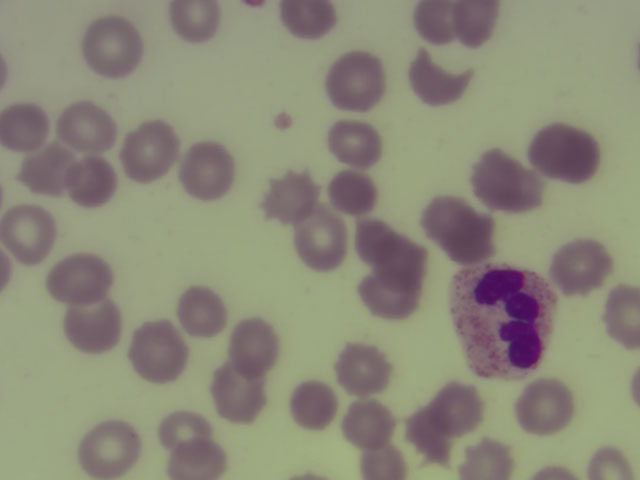Platelets: (267, 105, 300, 140)
RBC: (474, 150, 538, 209), (125, 321, 189, 380), (536, 119, 597, 180), (429, 197, 489, 258), (119, 119, 178, 180), (404, 56, 474, 103), (294, 205, 343, 271), (326, 53, 381, 110), (1, 205, 54, 264), (213, 366, 264, 426), (45, 255, 113, 300), (407, 396, 450, 464), (600, 284, 640, 352), (376, 240, 427, 288), (353, 215, 404, 263), (327, 168, 378, 216), (432, 381, 483, 429), (555, 241, 606, 289), (518, 382, 569, 430), (341, 401, 392, 449), (338, 346, 389, 394), (286, 380, 337, 428), (328, 118, 379, 166), (261, 171, 312, 219), (159, 405, 210, 453), (83, 426, 134, 474), (226, 322, 277, 370), (175, 287, 226, 335), (68, 305, 119, 353), (183, 144, 234, 192), (61, 157, 112, 205), (16, 147, 67, 195), (61, 102, 112, 150), (88, 22, 139, 70), (362, 271, 413, 319), (279, 1, 340, 41), (448, 1, 499, 48), (460, 436, 514, 480), (1, 103, 50, 151), (169, 440, 227, 480), (170, 1, 221, 45), (413, 1, 462, 41), (582, 440, 627, 480), (360, 444, 404, 480)
WBC: (448, 264, 559, 381)
